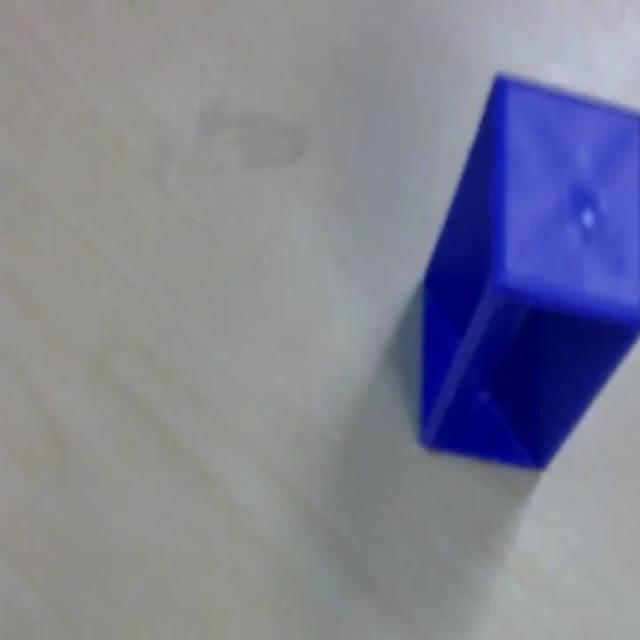blue_block: (417, 68, 639, 471)
